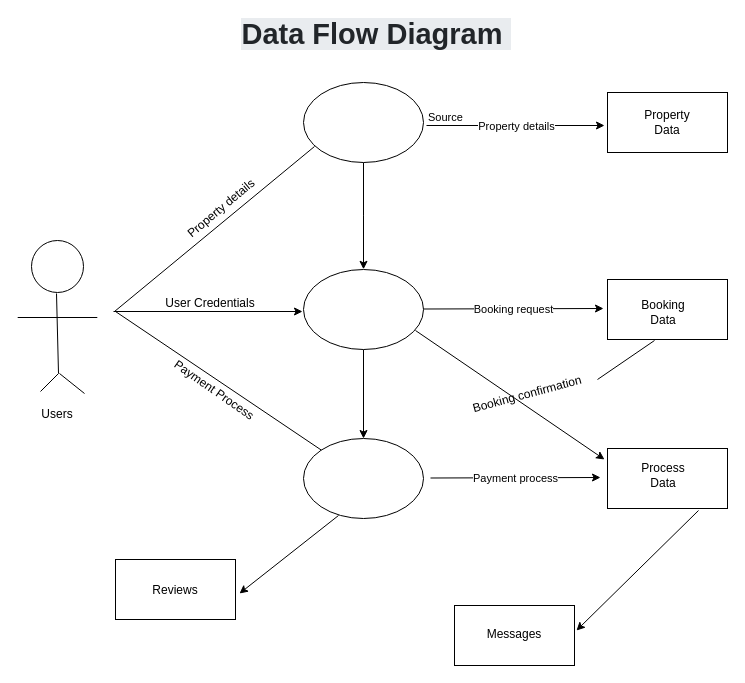
This 745x683 diagram has some shape labels left out. Each missing label, with the centre of its shape:
Manage Bookings: the point at 363,309
Manage Properties: the point at 363,122
Process Payment: the point at 363,478
